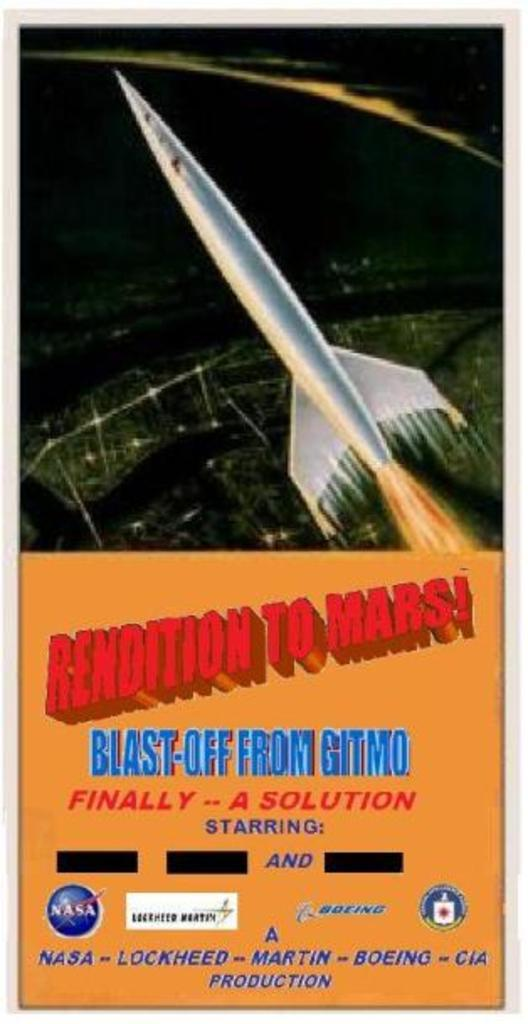Missile: (113, 62, 449, 518)
